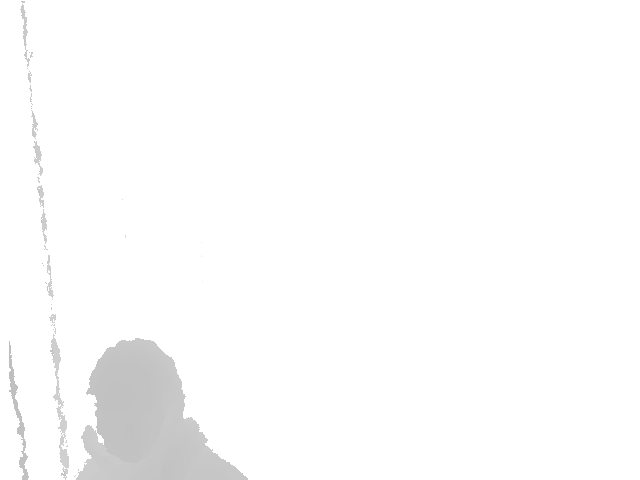head: (84, 338, 185, 461)
person: (76, 338, 248, 480)
